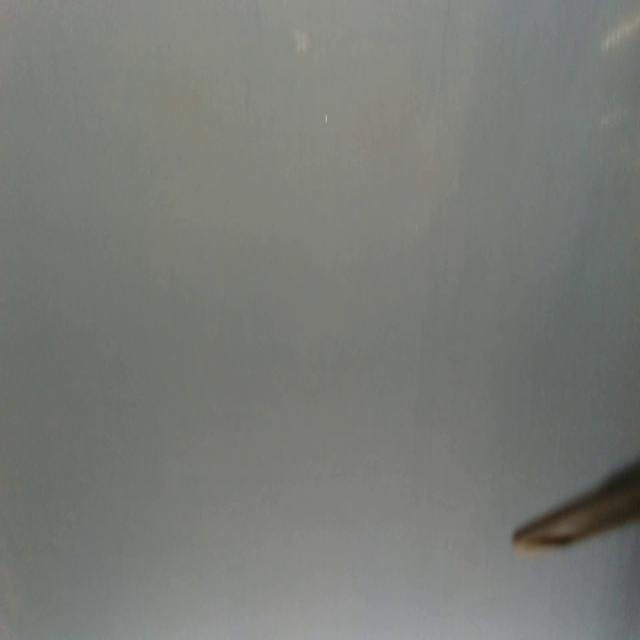hole: (324, 111, 330, 128)
